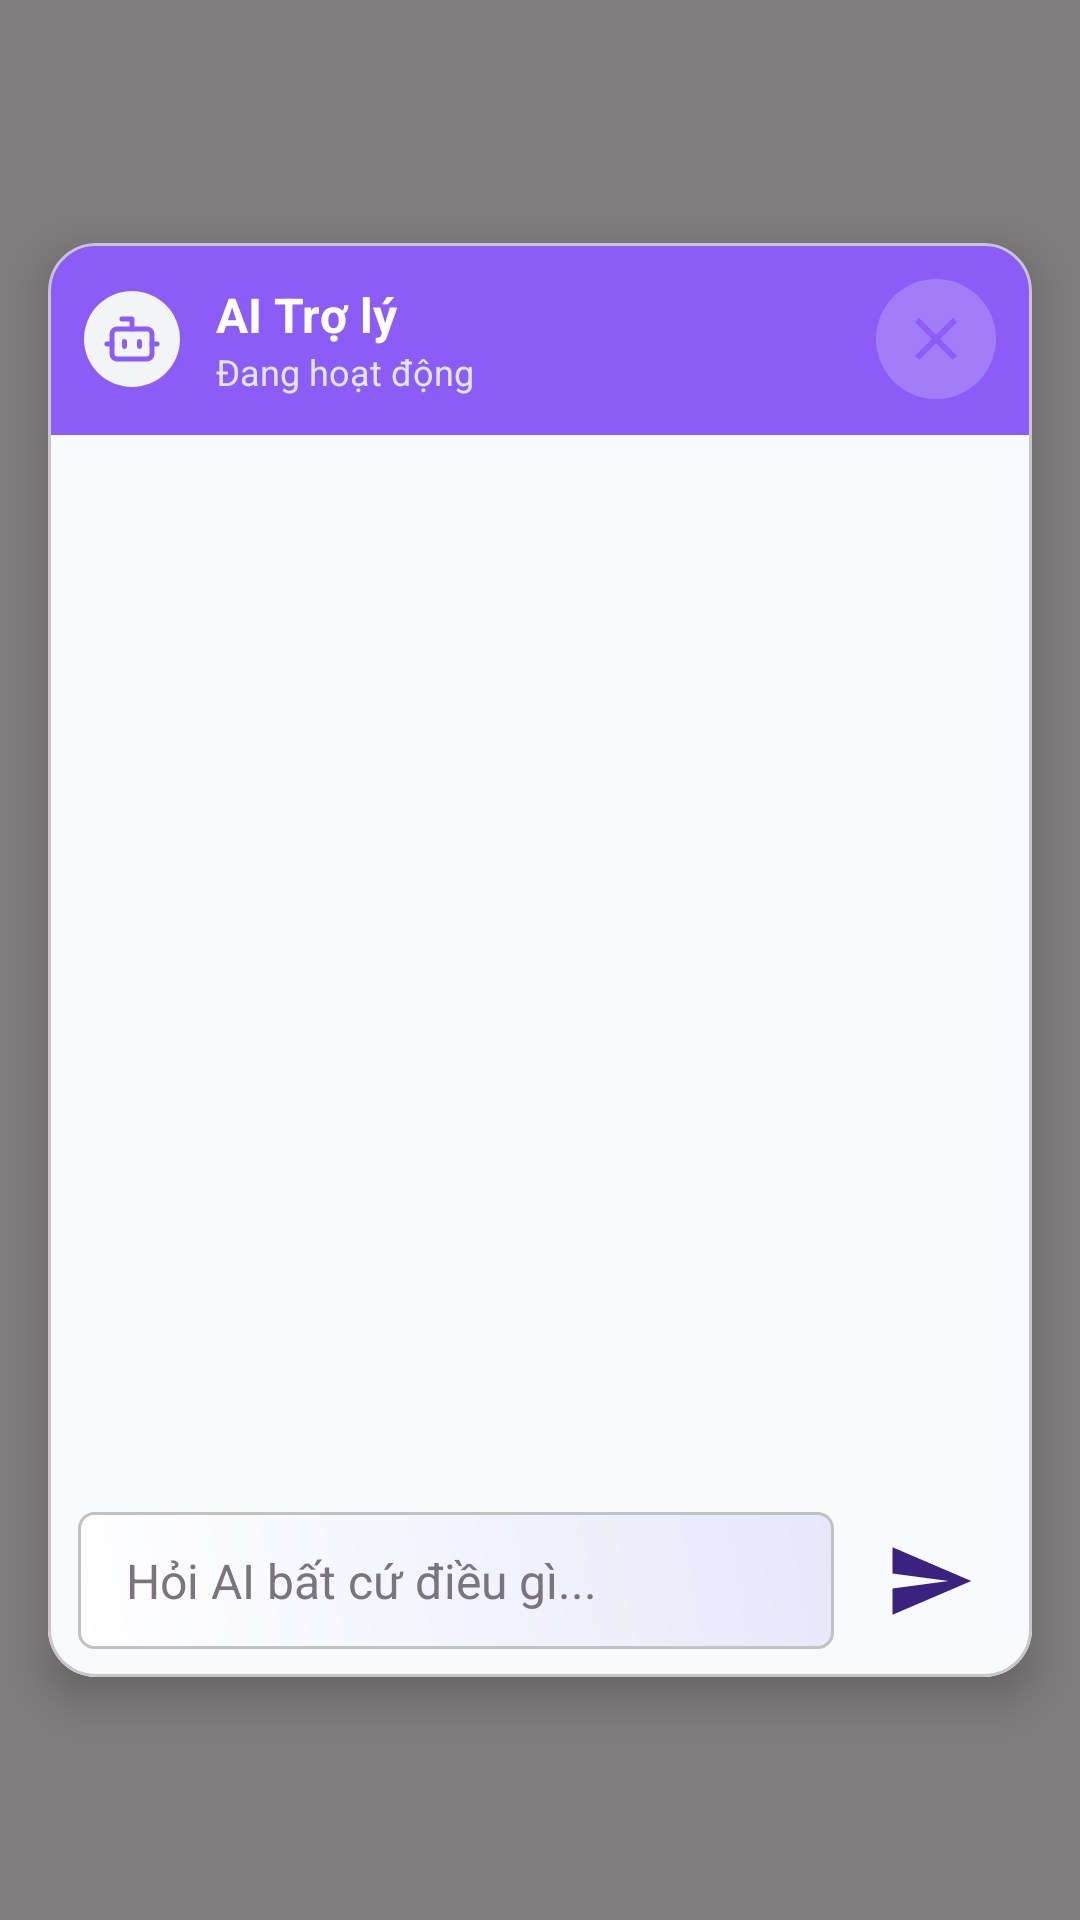

Screen size 1080px x 1920px. Icon name, then its center in pixels as (x=x, y=y):
bot: (x=132, y=339)
send: (x=931, y=1581)
Đóng: (x=936, y=339)
